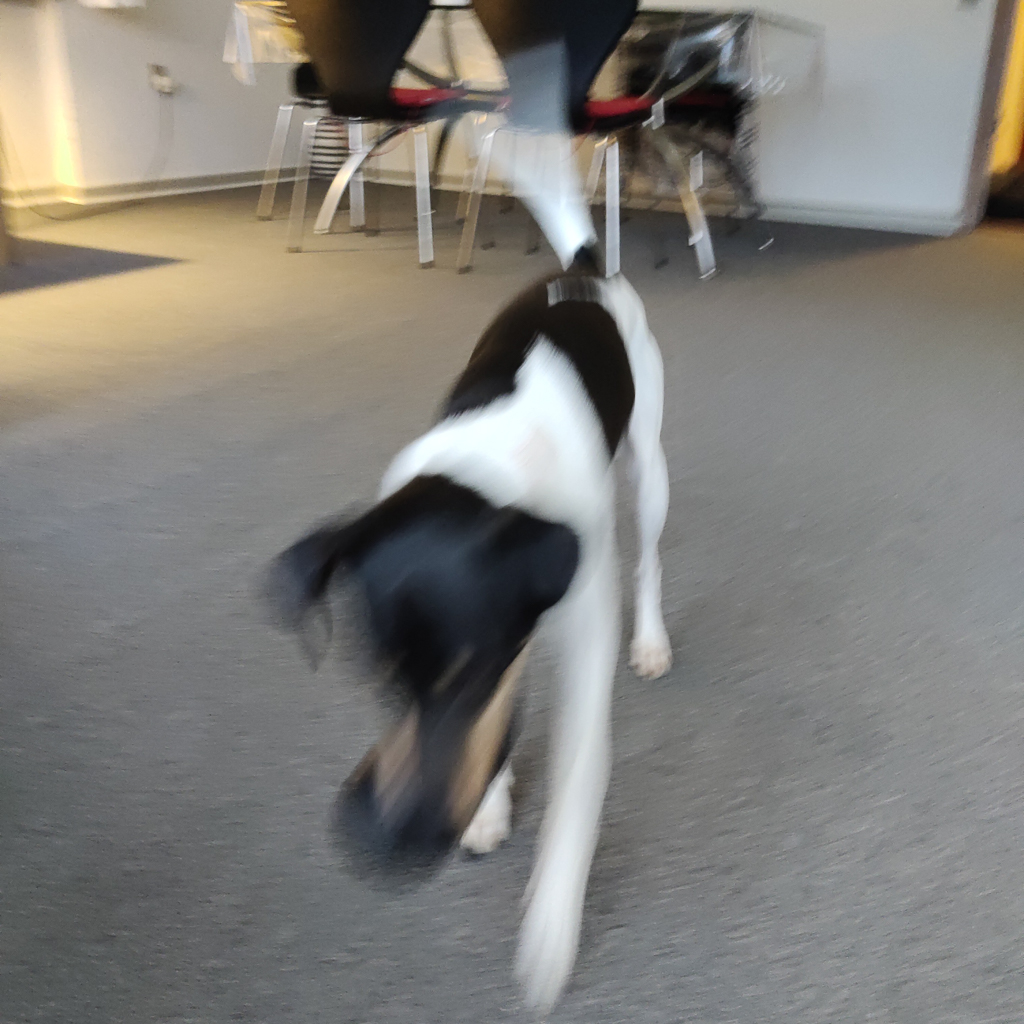Dog: (236, 33, 688, 1024)
